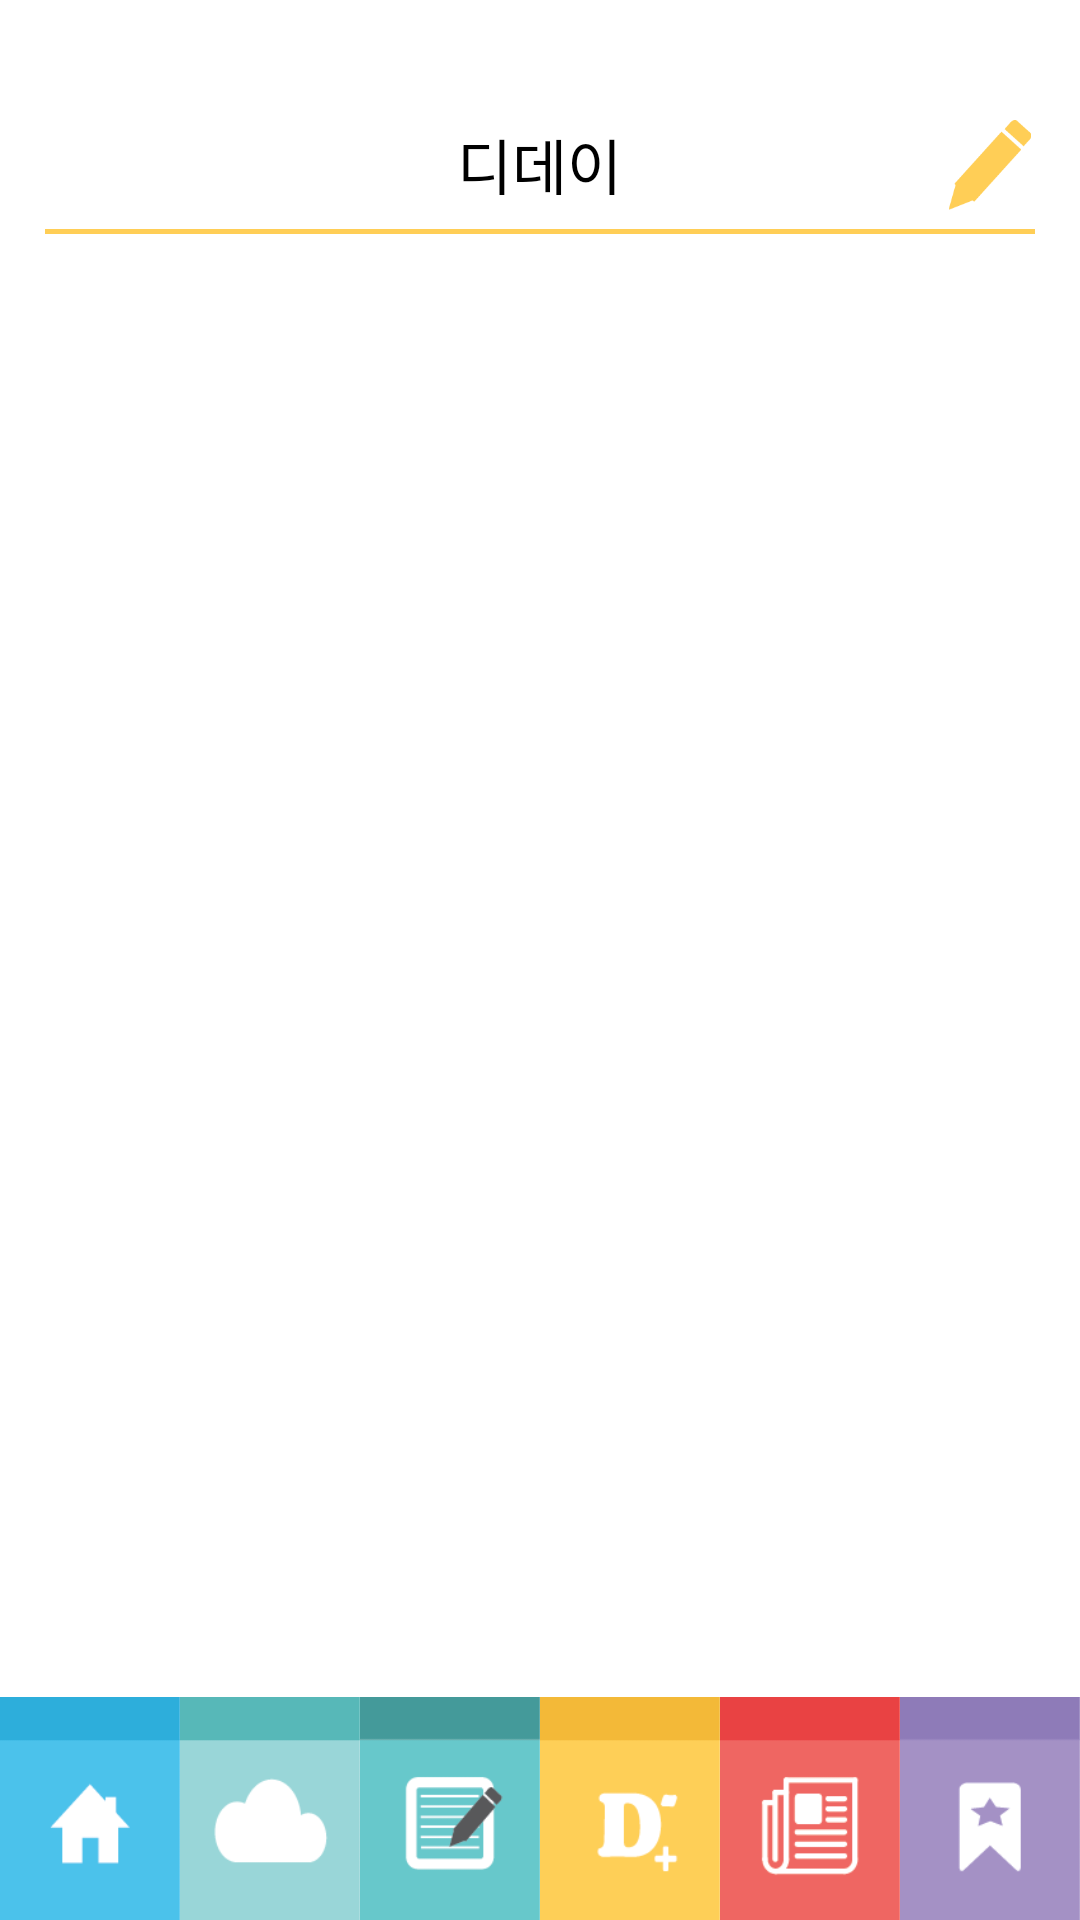

Screen size 1080 × 1920. Icon name, then its center in pixels as (x,y):
bookmark: (990,1808)
dday: (630,1808)
mainbtn: (90,1808)
memo: (450,1808)
news: (810,1808)
write: (990,165)
